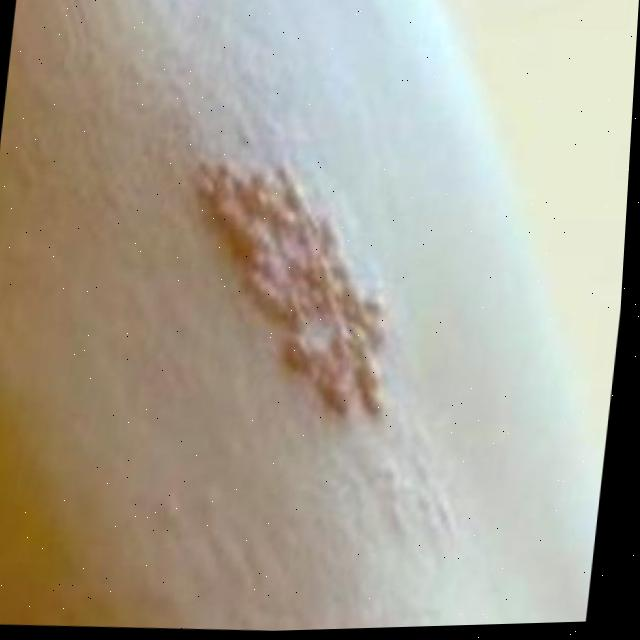Shingles: (178, 150, 414, 431)
